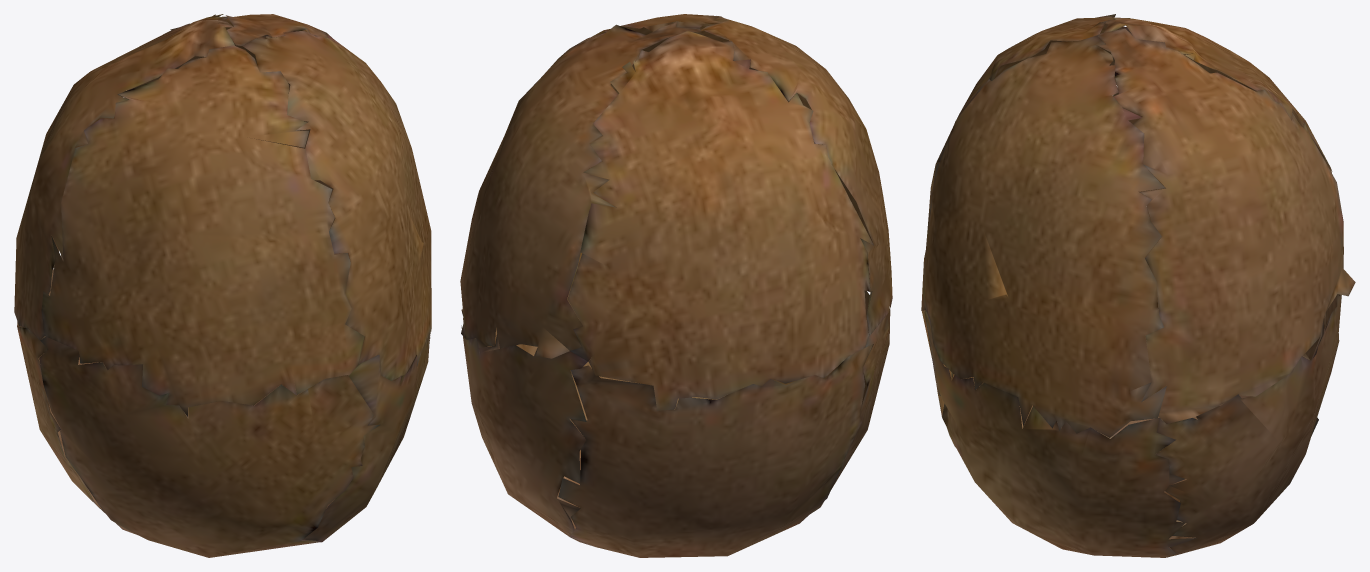
The model's file is food_kiwi_01.glb.
The picture shows the model from 3 angles, left to right: view 1: azimuth 30°, elevation 25°; view 2: azimuth 150°, elevation 25°; view 3: azimuth 270°, elevation 25°; orthographic projection.
Visible parts, largest first — view 1: food_kiwi_01; view 2: food_kiwi_01; view 3: food_kiwi_01.
Part boxes in pixels (left/top/right/bottom): food_kiwi_01: left=14, top=14, right=431, bottom=557; food_kiwi_01: left=460, top=14, right=892, bottom=557; food_kiwi_01: left=921, top=14, right=1355, bottom=557.
Bounding box in the file's own units: 0.0704 × 0.0904 × 0.0705.
Materials: 1 (1 with a texture image).
